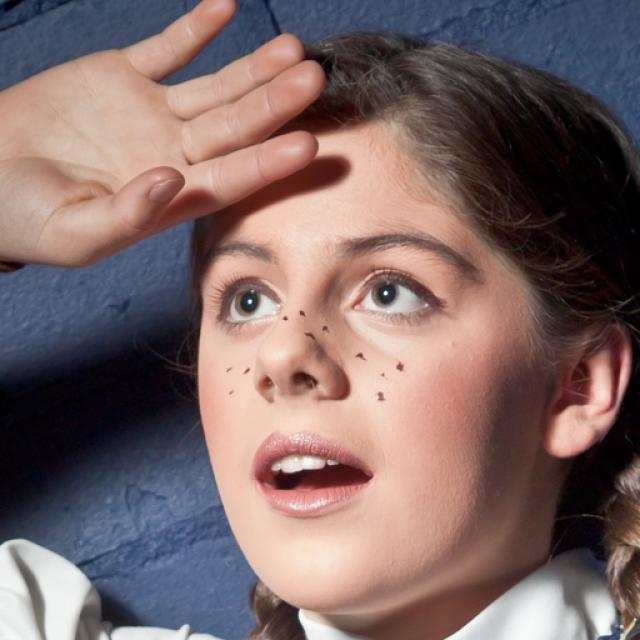surprise: (195, 121, 548, 605)
